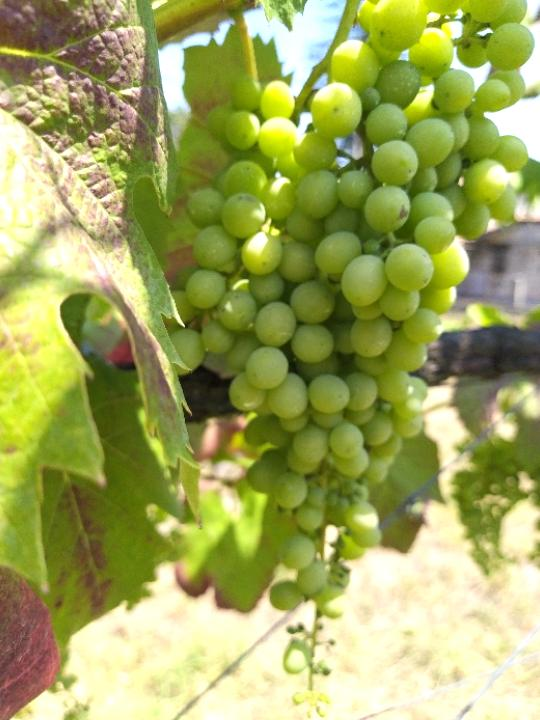grape: (162, 0, 537, 720)
